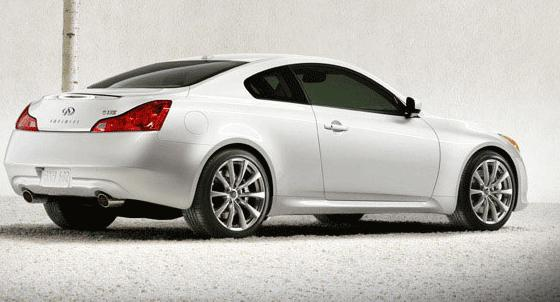Car: (1, 32, 560, 277)
